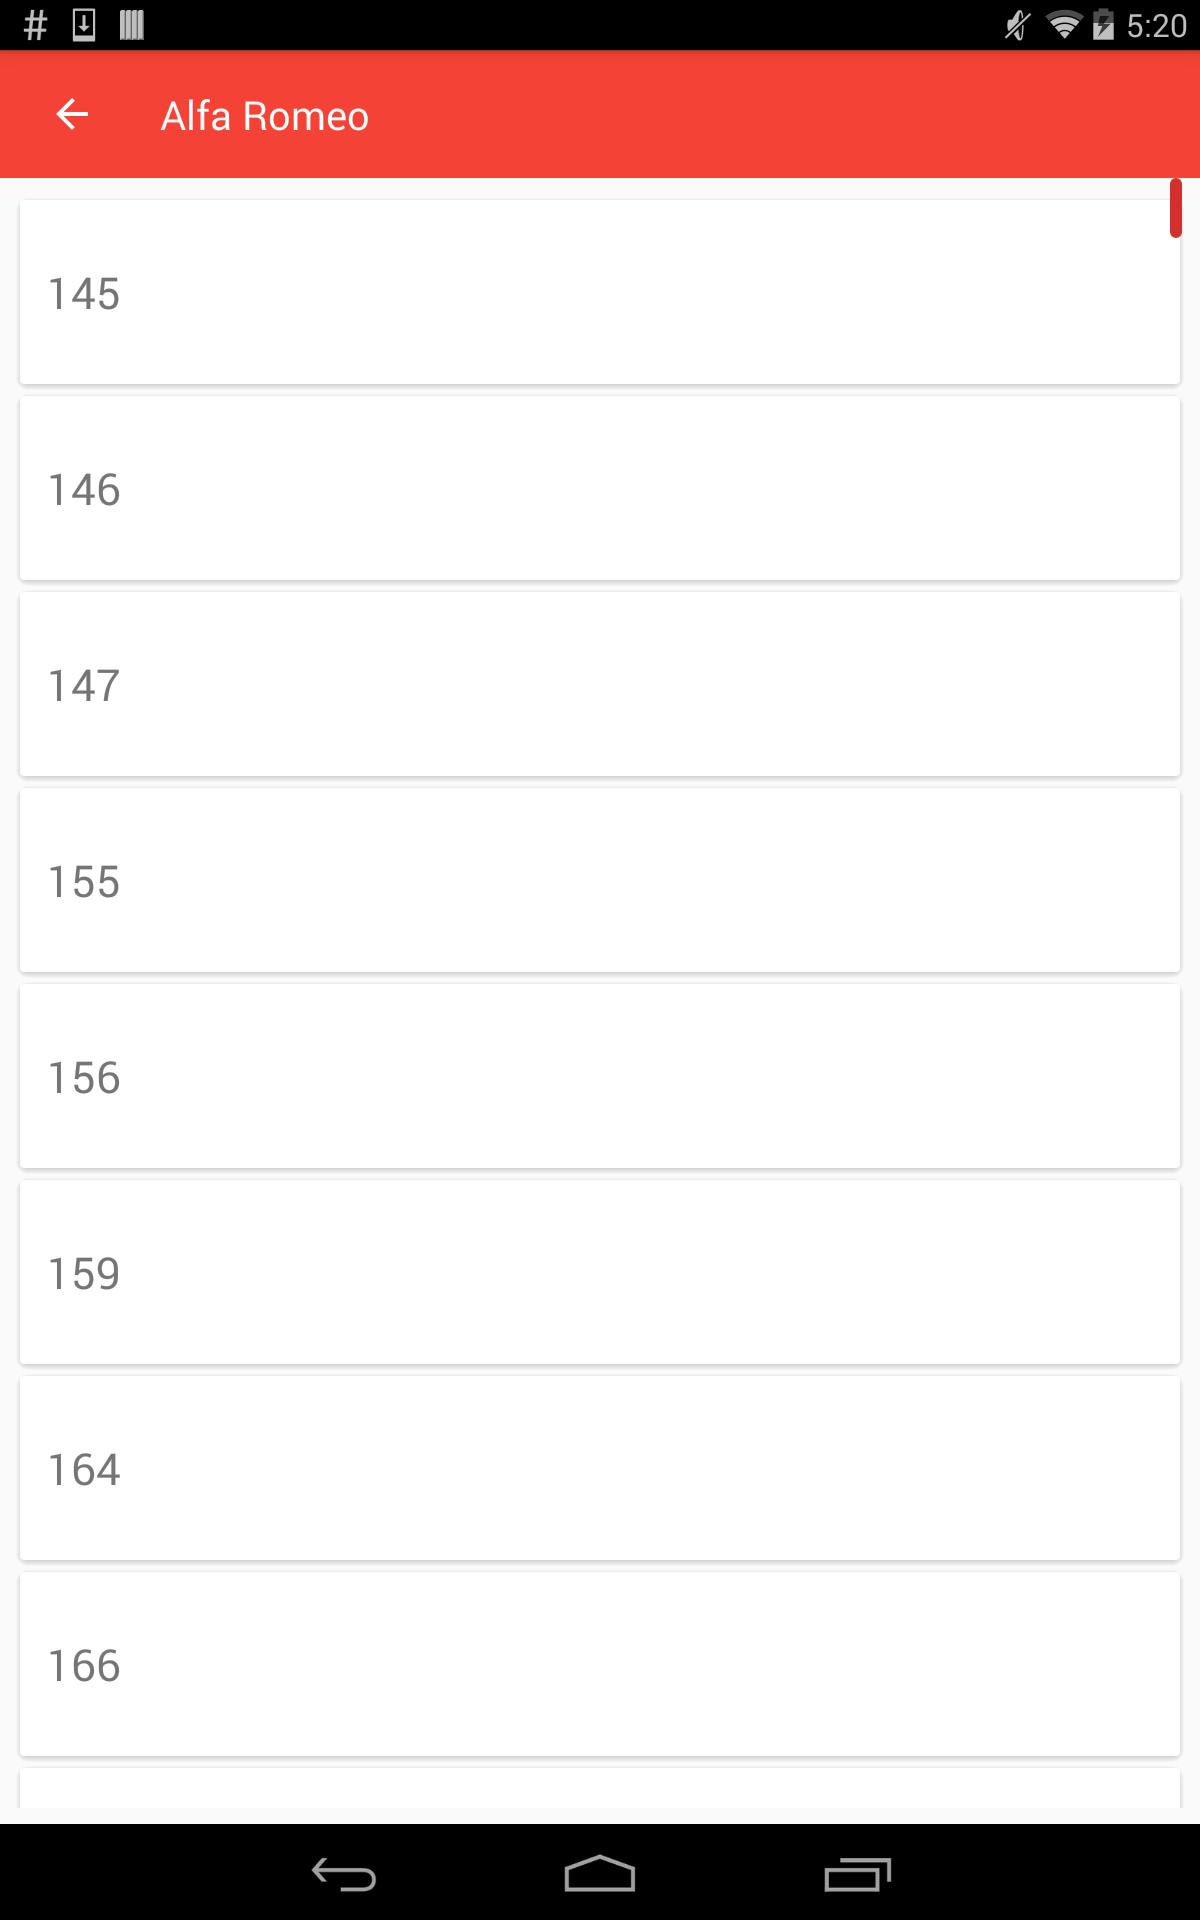android.support.v7.widget.RecyclerView: (0, 178, 1200, 1825)
android.view.View: (0, 50, 1200, 1825), (0, 50, 1200, 178), (1152, 178, 1200, 238)
android.widget.FrameLayout: (0, 0, 1200, 1825), (0, 50, 1200, 1825), (17, 194, 1183, 390), (17, 390, 1183, 586), (17, 586, 1183, 782), (17, 782, 1183, 979), (17, 1174, 1183, 1370), (17, 1370, 1183, 1566), (17, 1566, 1183, 1762), (17, 979, 1183, 1174), (17, 1762, 1183, 1920)
android.widget.ImageButton: (17, 50, 129, 178)
android.widget.ImageView: (998, 986, 1178, 1167), (998, 202, 1178, 382), (998, 398, 1178, 578), (998, 594, 1178, 774), (998, 791, 1178, 970), (998, 1182, 1178, 1362), (998, 1378, 1178, 1558), (998, 1574, 1178, 1754), (998, 1769, 1178, 1920)
android.widget.LinearLayout: (0, 0, 1200, 1825), (0, 50, 1200, 1825), (0, 178, 1200, 1825), (0, 194, 1200, 390), (0, 390, 1200, 586), (0, 586, 1200, 782), (0, 782, 1200, 979), (0, 1174, 1200, 1370), (0, 1370, 1200, 1566), (0, 1566, 1200, 1762), (0, 979, 1200, 1174), (0, 1762, 1200, 1920), (0, 50, 1200, 178)
android.widget.RelativeLayout: (22, 986, 1178, 1167), (22, 202, 1178, 382), (22, 398, 1178, 578), (22, 594, 1178, 774), (22, 791, 1178, 970), (22, 1182, 1178, 1362), (22, 1378, 1178, 1558), (22, 1574, 1178, 1754), (22, 1769, 1178, 1920)
android.widget.TextView: (22, 458, 998, 517), (22, 654, 998, 713), (22, 850, 998, 910), (22, 1438, 998, 1497), (22, 1634, 998, 1693), (22, 263, 998, 321), (22, 1046, 998, 1104), (22, 1243, 998, 1301), (160, 87, 371, 141)
